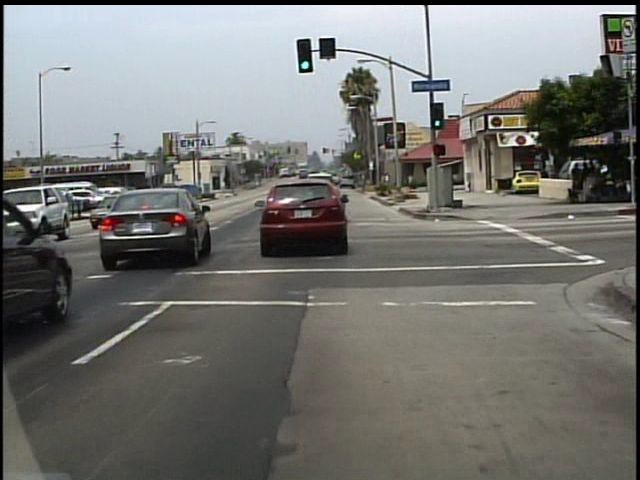person: (536, 162, 552, 199)
